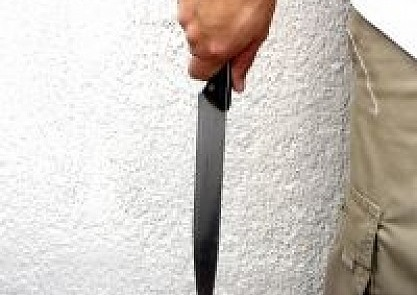knife: (179, 21, 254, 295)
